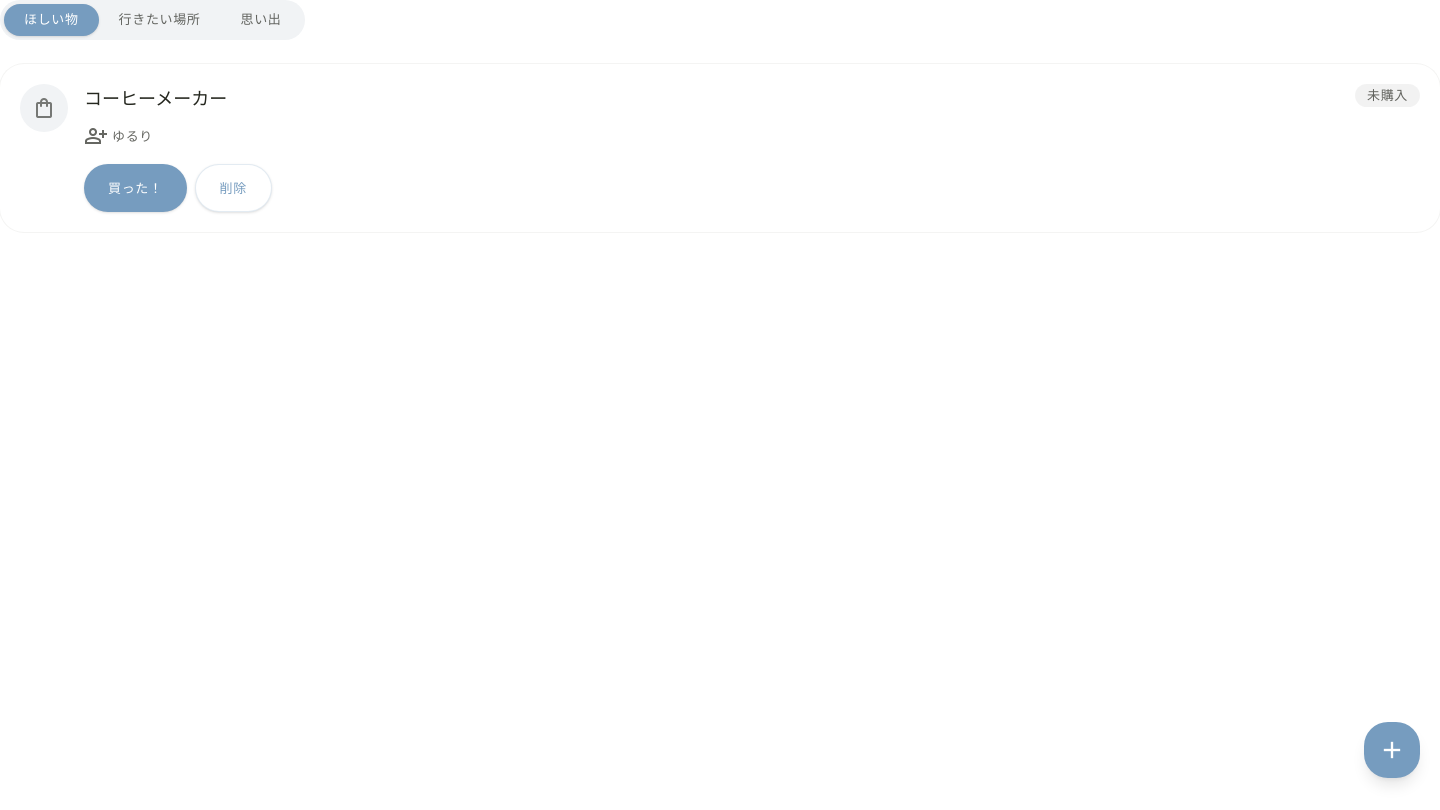
Test: WishlistBoard 統合 › 「買った！」で思い出アーカイブへ移動する（削除しない）
The width and height of the screenshot is (1440, 810).
Click the button "買った！" at (135,188), box [84,164,187,212]
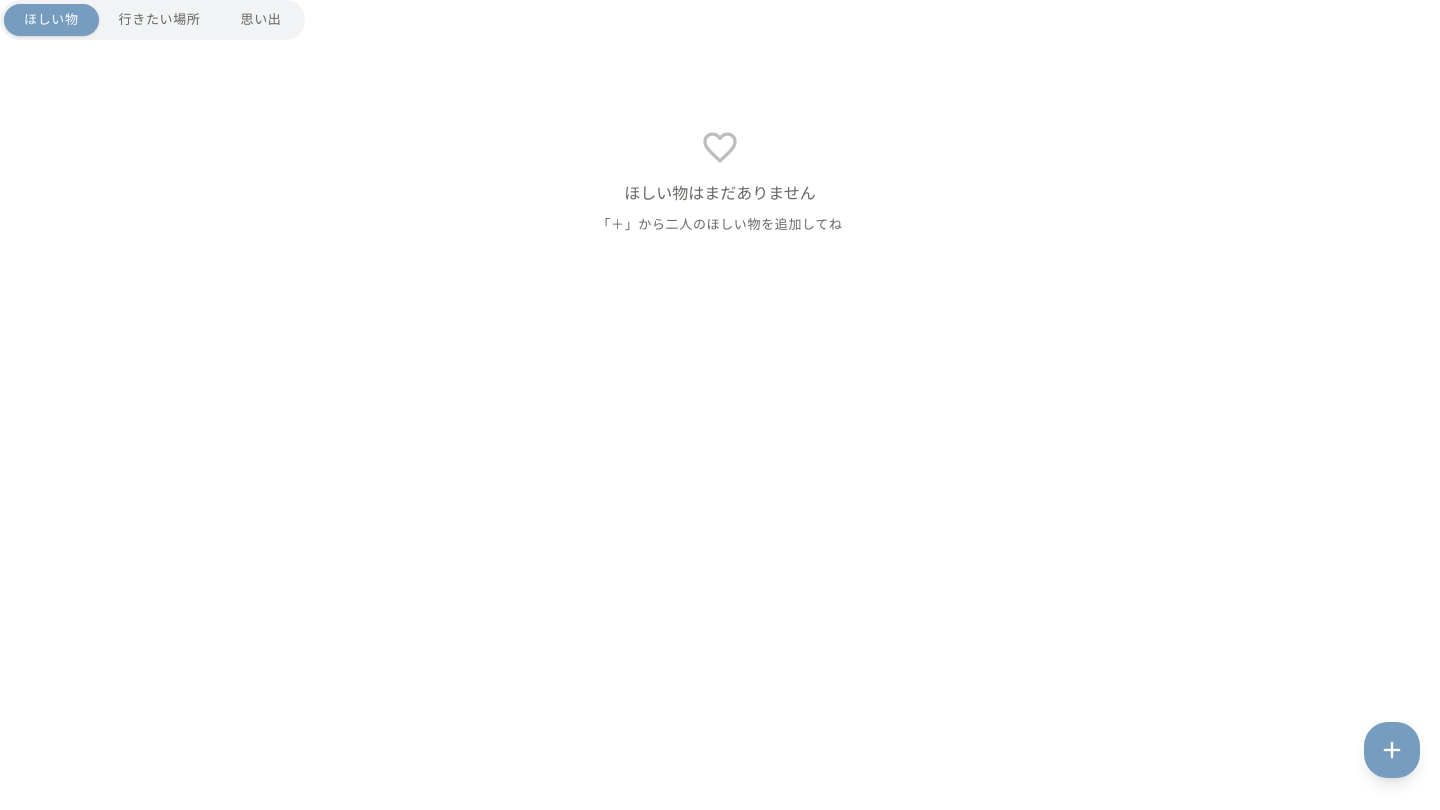
Expected: the button "コーヒーメーカー" is gone
思い出タブには残っている（購入済み）
Click the radio button labelled "思い出" at (261,20), box [220,4,302,36]
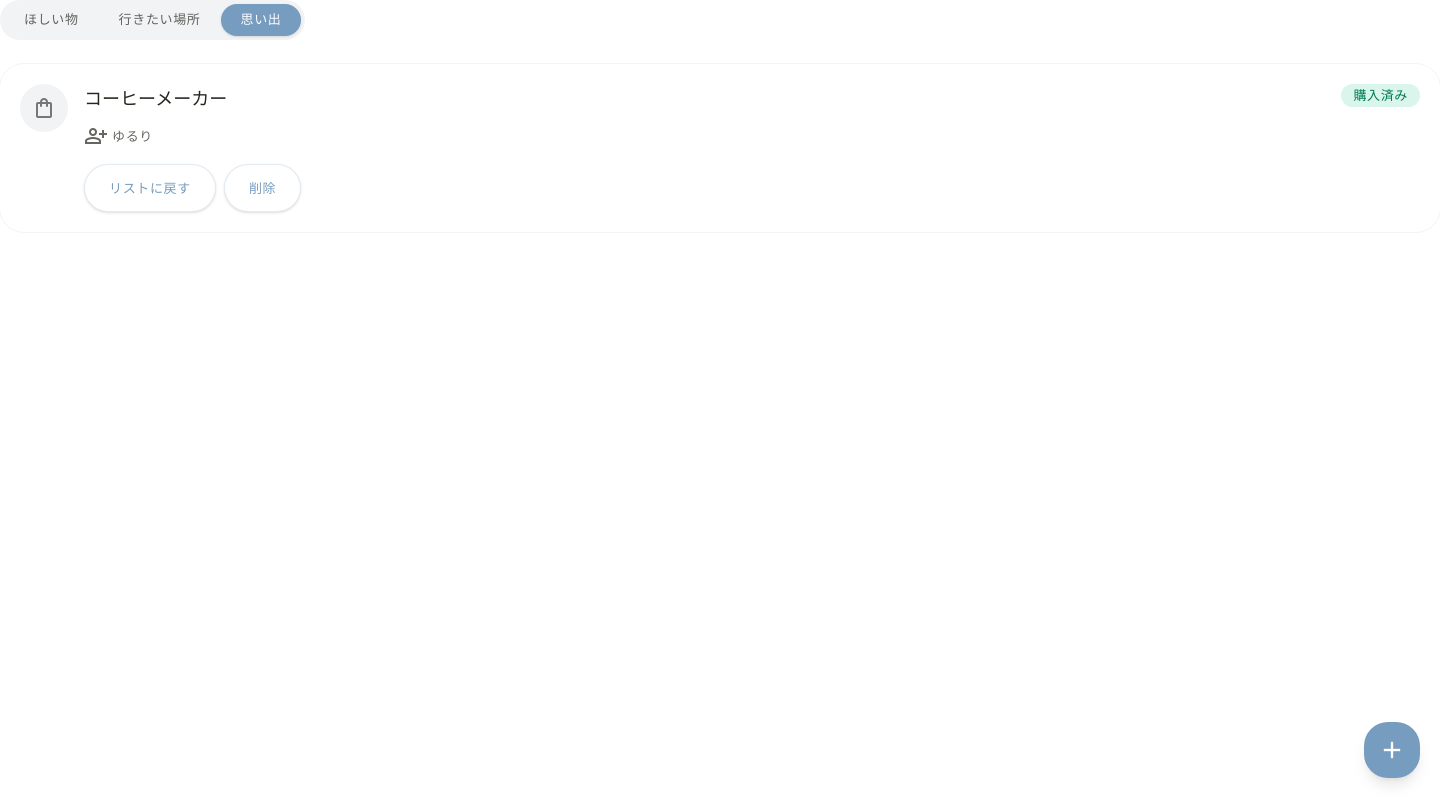
Expected: the text "購入済み" is shown, [1341,84,1420,107]
Expected: the button "リストに戻す" is shown, [84,164,216,212]
